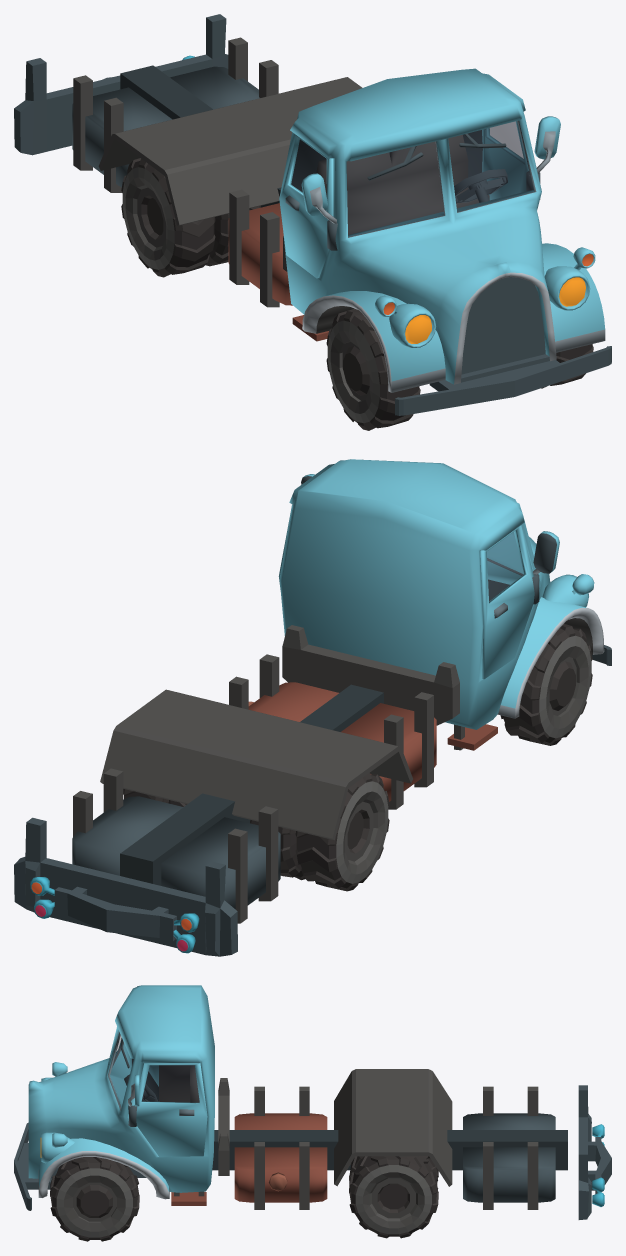
The model's file is truck_cab.glb.
The picture shows the model from 3 angles, top to bottom: view 1: azimuth 30°, elevation 25°; view 2: azimuth 150°, elevation 25°; view 3: azimuth 270°, elevation 25°; orthographic projection. The views are drawn at different scales.
Parts seen in each view (by area): view 1: Truck_body.004_Metal_0, Truck_WheelCover.004_Metal_0, Truck_body.004_Glass_0, Truck_body.004_Rough_0, Truck_Engine.004_Metal_0, Truck_Wheel_Back.004_Rough_0, Truck_Bumper.004_Metal_0, Truck_Wheel_Front.right.004_Rough_0, TruckModule_Laggage.003_Metal_0, TruckModule_Laggage.003_Rough_0, Truck_Door.right.004_Rough_0, TruckModule_OilTank.004_Rough_0 (+10 smaller); view 2: Truck_body.004_Metal_0, Truck_WheelCover.004_Metal_0, Truck_Bumper.004_Metal_0, Truck_Chassy_Short.004_Rough_0, TruckModule_Laggage.003_Metal_0, Truck_Wheel_Back.004_Rough_0, Truck_Wheel_Front.right.004_Rough_0, TruckModule_OilTank.004_Metal_0, TruckModule_Laggage.003_Rough_0, Truck_Door.right.004_Rough_0, TruckModule_OilTank.004_Rough_0, Truck_Door.right.004_Glass_0 (+3 smaller); view 3: Truck_body.004_Metal_0, Truck_WheelCover.004_Metal_0, Truck_Chassy_Short.004_Rough_0, Truck_Wheel_Back.004_Rough_0, TruckModule_Laggage.003_Metal_0, TruckModule_OilTank.004_Metal_0, Truck_Wheel_Front.left.004_Rough_0, Truck_Door.left.004_Metal_0, Truck_Bumper.004_Metal_0, TruckModule_OilTank.004_Rough_0, TruckModule_Laggage.003_Rough_0, Truck_body.004_Rough_0 (+5 smaller).
Boxes of the visible parts, x1,y1,x2,y2 form: Truck_body.004_Metal_0: (283, 68, 605, 392); Truck_WheelCover.004_Metal_0: (98, 77, 362, 225); Truck_body.004_Glass_0: (347, 121, 533, 236); Truck_body.004_Rough_0: (291, 116, 560, 333); Truck_Engine.004_Metal_0: (395, 277, 611, 415); Truck_Wheel_Back.004_Rough_0: (121, 158, 260, 277); Truck_Bumper.004_Metal_0: (14, 14, 228, 155); Truck_Wheel_Front.right.004_Rough_0: (326, 308, 420, 430); TruckModule_Laggage.003_Metal_0: (72, 66, 259, 187); TruckModule_Laggage.003_Rough_0: (73, 37, 278, 192); Truck_Door.right.004_Rough_0: (279, 132, 333, 278); TruckModule_OilTank.004_Rough_0: (229, 189, 279, 307); Truck_body.004_Metal_0: (279, 459, 604, 750); Truck_WheelCover.004_Metal_0: (100, 689, 412, 840); Truck_Bumper.004_Metal_0: (14, 817, 237, 956); Truck_Chassy_Short.004_Rough_0: (120, 625, 459, 885); TruckModule_Laggage.003_Metal_0: (72, 796, 280, 909); Truck_Wheel_Back.004_Rough_0: (123, 773, 389, 891); Truck_Wheel_Front.right.004_Rough_0: (500, 624, 592, 745); TruckModule_OilTank.004_Metal_0: (248, 682, 436, 801); TruckModule_Laggage.003_Rough_0: (73, 768, 278, 923); Truck_Door.right.004_Rough_0: (480, 525, 534, 679); TruckModule_OilTank.004_Rough_0: (229, 654, 433, 809); Truck_Door.right.004_Glass_0: (487, 532, 523, 600); Truck_body.004_Metal_0: (28, 985, 214, 1205); Truck_WheelCover.004_Metal_0: (334, 1069, 452, 1186); Truck_Chassy_Short.004_Rough_0: (212, 1078, 567, 1175); Truck_Wheel_Back.004_Rough_0: (349, 1156, 438, 1238); TruckModule_Laggage.003_Metal_0: (463, 1113, 555, 1202); TruckModule_OilTank.004_Metal_0: (234, 1113, 327, 1202); Truck_Wheel_Front.left.004_Rough_0: (50, 1157, 139, 1241); Truck_Door.left.004_Metal_0: (134, 1063, 207, 1156); Truck_Bumper.004_Metal_0: (578, 1085, 611, 1219); TruckModule_OilTank.004_Rough_0: (254, 1086, 309, 1209); TruckModule_Laggage.003_Rough_0: (483, 1086, 538, 1209); Truck_body.004_Rough_0: (120, 1038, 199, 1126).
Bounding box in the file's own units: 506 × 511 × 1397.
4 materials, 3 textured.
